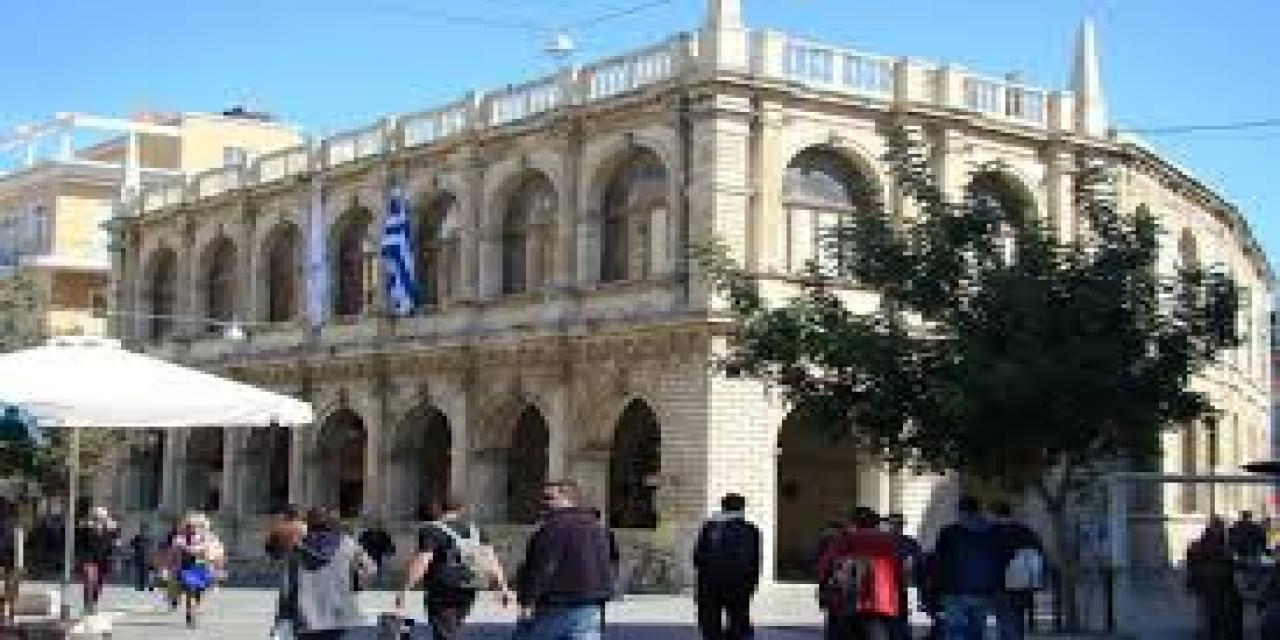Loggia: (102, 1, 1274, 584)
